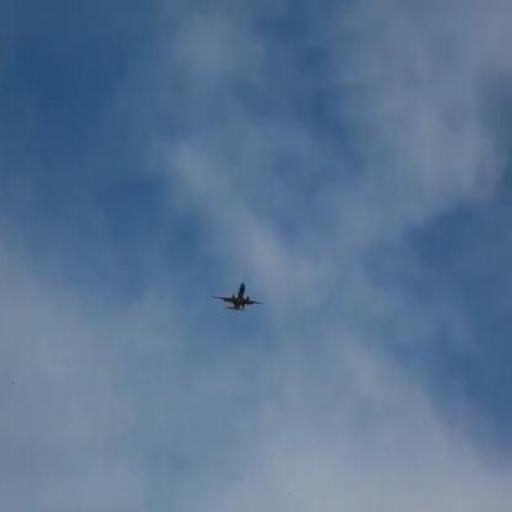aircraft: (211, 283, 262, 310)
